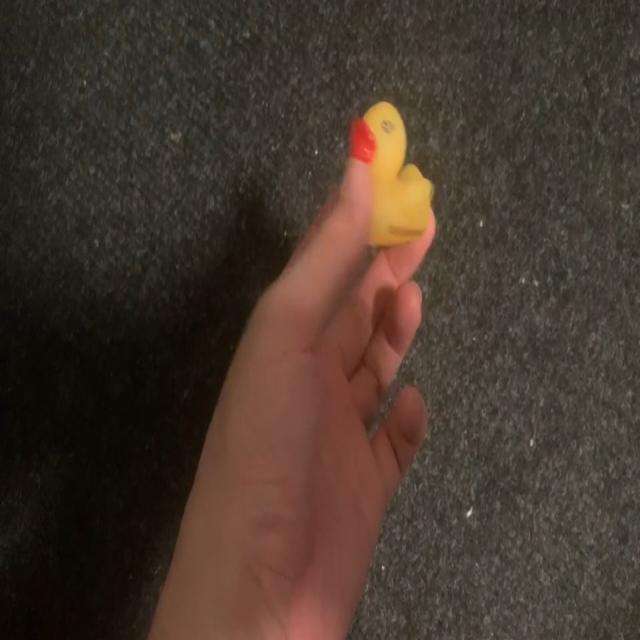rubber-duck: (349, 101, 431, 244)
